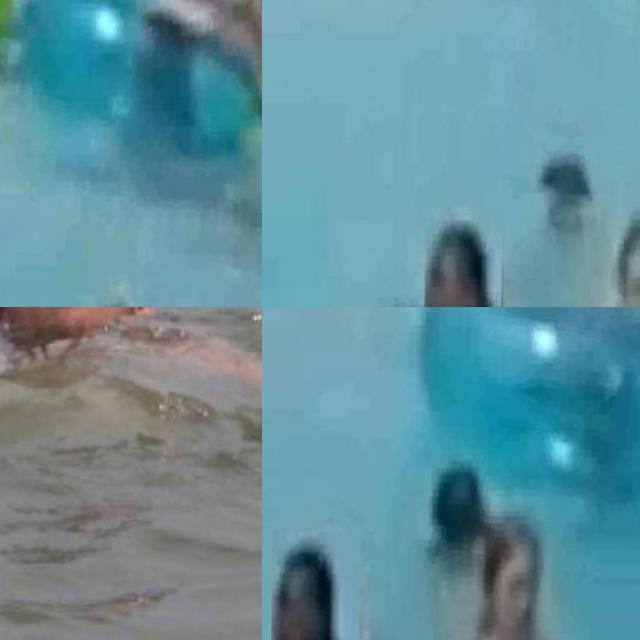drowning: (0, 307, 262, 458), (506, 115, 618, 228), (390, 459, 482, 592), (70, 285, 137, 307)
swimming: (128, 0, 262, 102), (268, 529, 361, 640), (479, 499, 546, 640), (421, 206, 502, 307), (607, 232, 640, 307)
